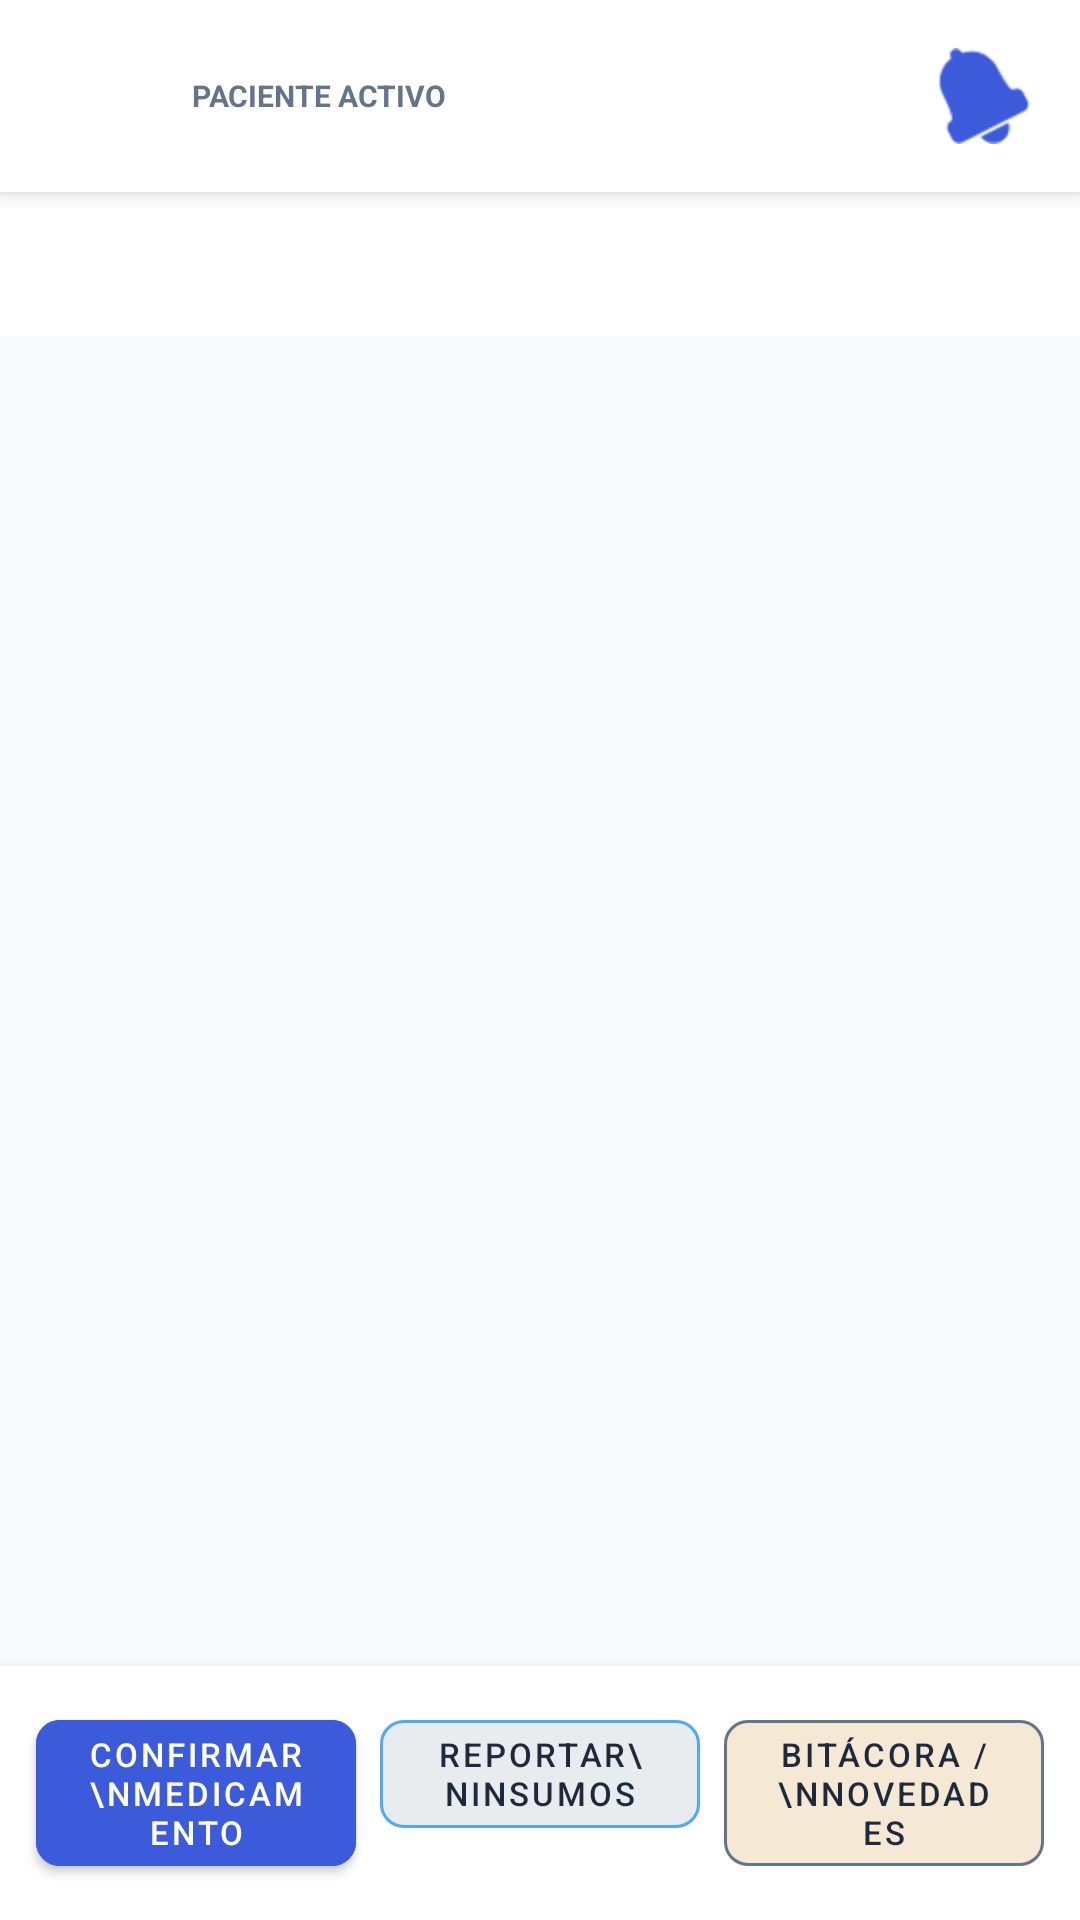

Where to tap for icons on this 1080×1920 app screen, as [x,y]:
Notificaciones: [984,96]
